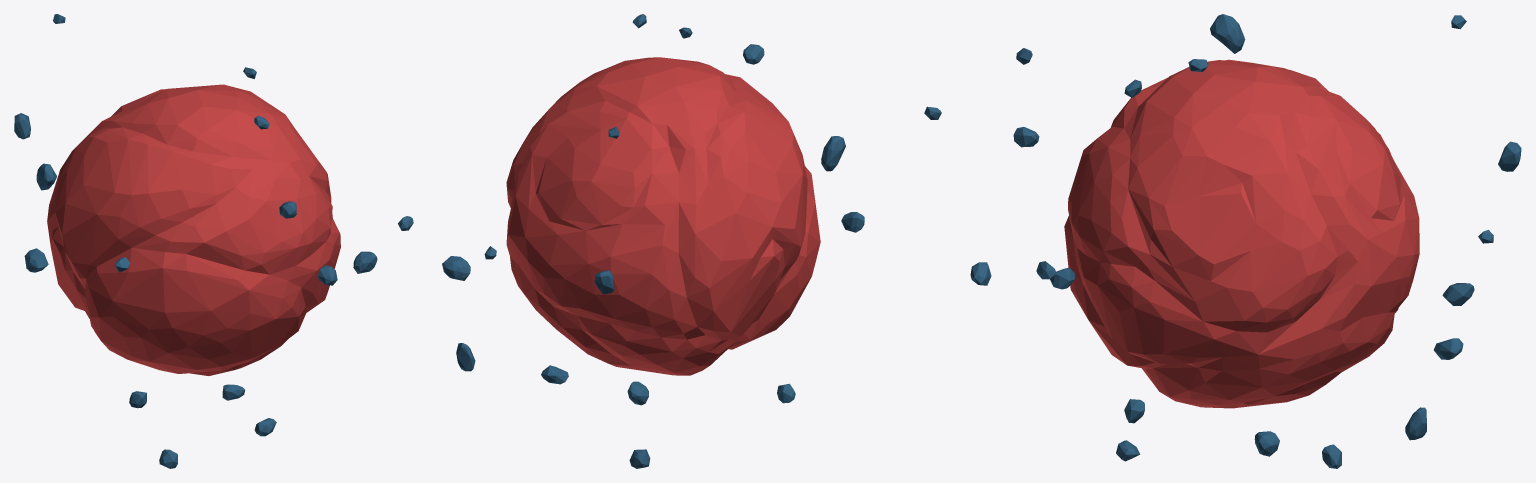
Rendered from SM_PlanetF.fbx.
3 views of the same model, side by side, from view 1: azimuth 30°, elevation 25°; view 2: azimuth 150°, elevation 25°; view 3: azimuth 270°, elevation 25° (orthographic). The views are drawn at different scales.
Visible parts, largest first — view 1: PlanetF; view 2: PlanetF; view 3: PlanetF.
Part boxes in pixels (<box>): PlanetF: <box>14,14,413,468</box>; PlanetF: <box>442,14,941,468</box>; PlanetF: <box>970,14,1521,468</box>.
Bounding box in the file's own units: 2.8 × 2.71 × 3.07.
Materials: 1 (1 with a texture image).
